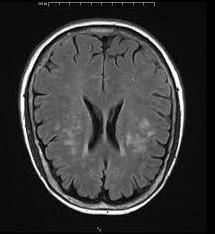Normal_Brain: (2, 2, 215, 234)
